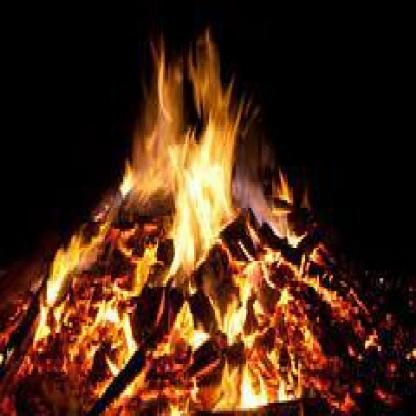fire: (10, 28, 377, 406)
